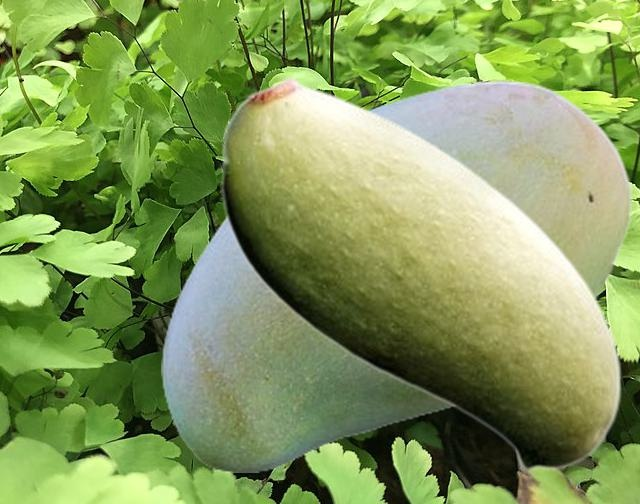green_mango: (161, 80, 632, 471), (220, 75, 621, 471)
